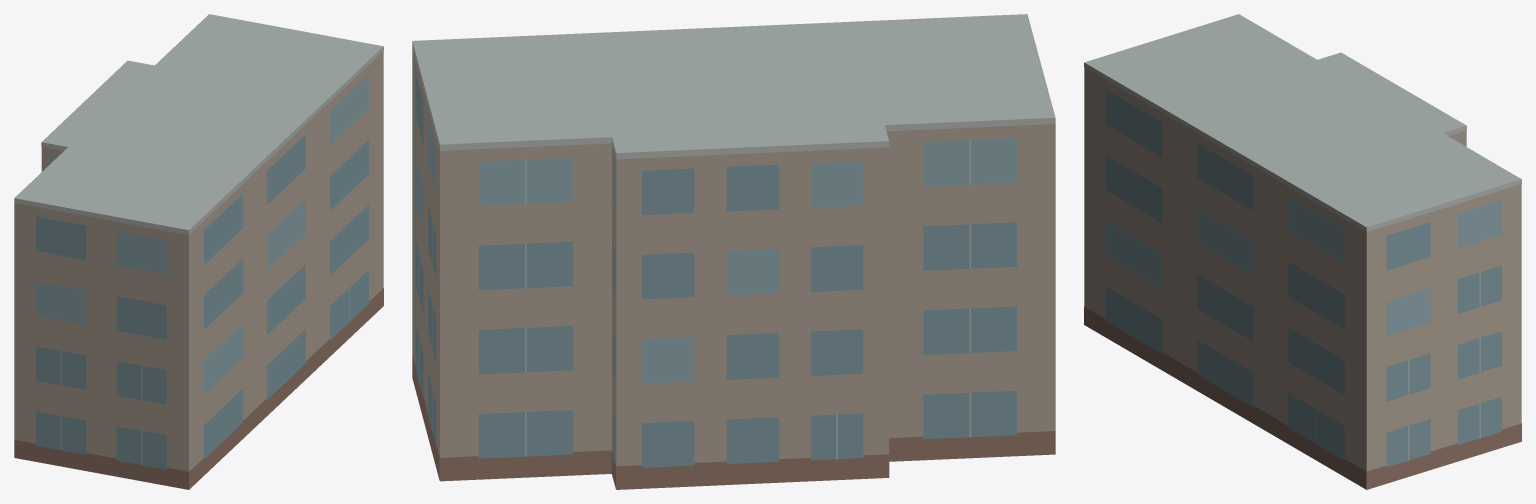
Rendered from survey-upis-33011480.glb.
The picture shows the model from 3 angles, left to right: view 1: azimuth 30°, elevation 25°; view 2: azimuth 150°, elevation 25°; view 3: azimuth 270°, elevation 25°; orthographic projection. The views are drawn at different scales.
Parts seen in each view (by area): view 1: survey-upis-33011480.tmp; view 2: survey-upis-33011480.tmp; view 3: survey-upis-33011480.tmp.
Part boxes in pixels (x1,y1,x2,y2): survey-upis-33011480.tmp: (14,14,383,489); survey-upis-33011480.tmp: (412,14,1055,489); survey-upis-33011480.tmp: (1084,14,1521,489).
Size of the model in its own units: 23.03 by 13.2 by 19.95.
